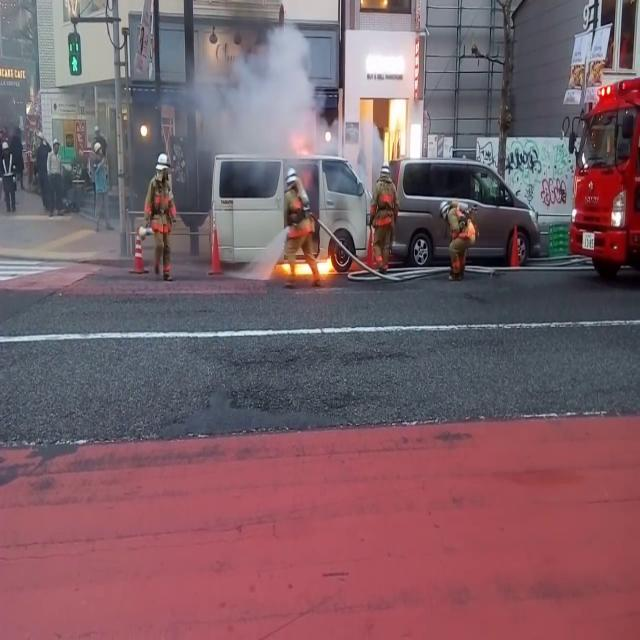Fire: (273, 245, 339, 282)
Smoke: (165, 12, 331, 169)
